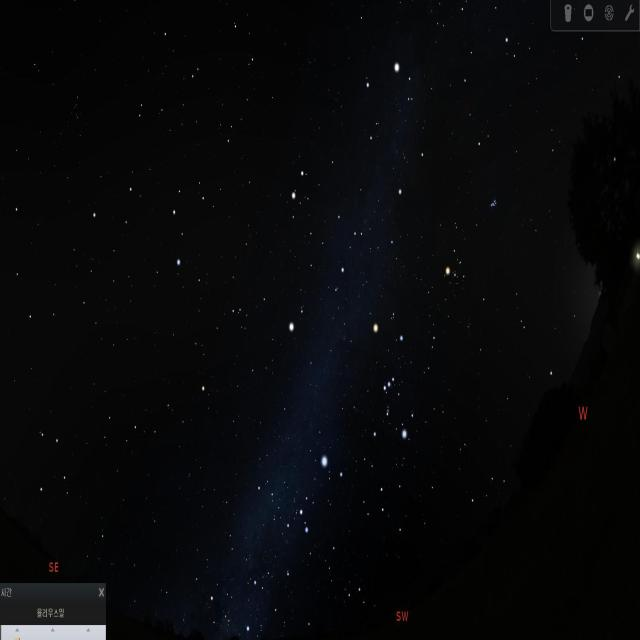canis_major: (297, 448, 352, 541)
canis_minor: (272, 299, 316, 346)
gemini: (278, 146, 387, 298)
leo: (88, 156, 214, 292)
orion: (359, 312, 416, 451)
pleiades: (487, 194, 500, 218)
taurus: (436, 171, 509, 313)
